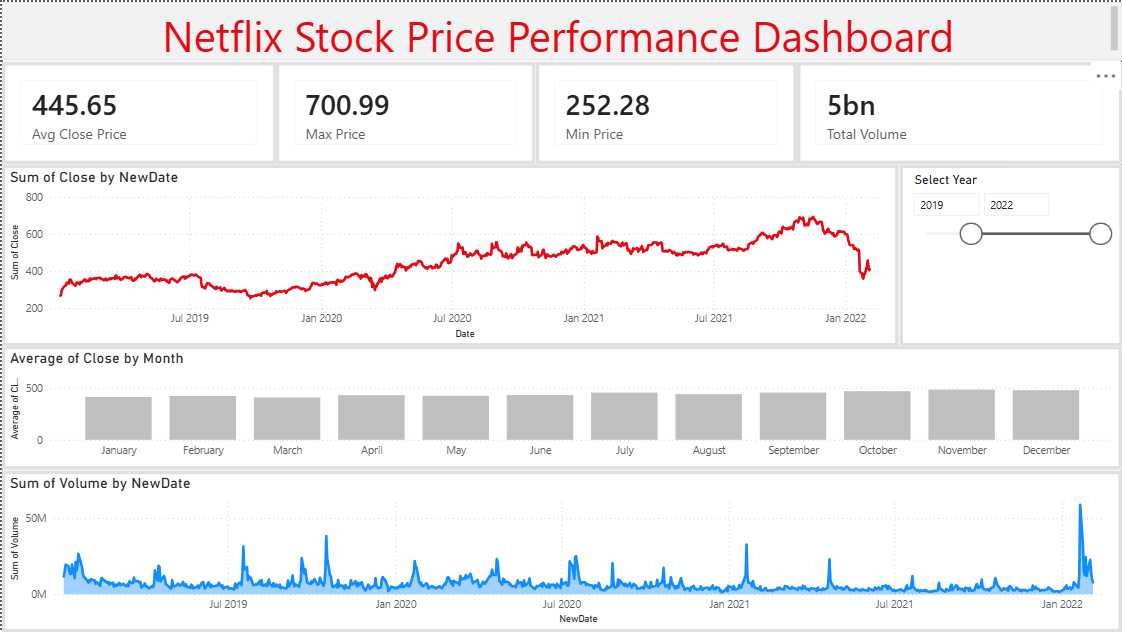

Layout of this report page (visuals, bound fields, positions):
{"tool":"powerbi","page":{"name":"Page 1","canvas":[1280,720],"ordinal":0},"visuals":[{"type":"shape","box":[0,0,1280,720],"z":0},{"type":"shape","box":[0,0,1280,66.7],"z":1000},{"type":"cardVisual","fields":{"Data":["NFLX.Avg Close Price"]},"box":[0,68.3,313.3,116.7],"z":2000},{"type":"cardVisual","fields":{"Data":["NFLX.Max Price"]},"box":[313.3,68.3,296.7,116.7],"z":3000},{"type":"cardVisual","fields":{"Data":["NFLX.Min Price"]},"box":[610,68.3,298.3,116.7],"z":4000},{"type":"cardVisual","fields":{"Data":["NFLX.Total Volume"]},"box":[908.3,68.3,371.7,116.7],"z":5000},{"type":"lineChart","fields":{"Y":["Sum(NFLX.Close)"],"Category":["NFLX.NewDate"]},"box":[0,185,1025,208.3],"z":6000},{"type":"clusteredColumnChart","fields":{"Y":["Avg(NFLX.Close)"],"Category":["NFLX.Date.Variation.Date Hierarchy.Month"]},"box":[0,393.3,1280,141.7],"z":7000},{"type":"areaChart","fields":{"Y":["Sum(NFLX.Volume)"],"Category":["NFLX.NewDate"]},"box":[0,535,1280,185],"z":8000},{"type":"slicer","fields":{"Values":["NFLX.Year"]},"box":[1025,185,255,208.3],"z":9000},{"type":"textbox","box":[0,0,1280,66.7],"z":10000}]}

Visuals, with their boxes in screenshot pixels (x1, y1, x2, y2), scaled from the page's 1280x720 canvas onto the 1122x632 screenshot:
shape: box(0, 0, 1121, 631)
shape: box(0, 0, 1121, 59)
cardVisual - NFLX.Avg Close Price: box(0, 60, 275, 162)
cardVisual - NFLX.Max Price: box(275, 60, 535, 162)
cardVisual - NFLX.Min Price: box(535, 60, 796, 162)
cardVisual - NFLX.Total Volume: box(796, 60, 1121, 162)
lineChart - Sum(NFLX.Close) x NFLX.NewDate: box(0, 162, 898, 345)
clusteredColumnChart - Avg(NFLX.Close) x NFLX.Date.Variation.Date Hierarchy.Month: box(0, 345, 1121, 470)
areaChart - Sum(NFLX.Volume) x NFLX.NewDate: box(0, 470, 1121, 631)
slicer - NFLX.Year: box(898, 162, 1121, 345)
textbox: box(0, 0, 1121, 59)
